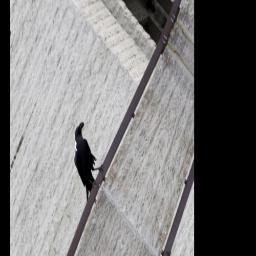Crow: (59, 115, 113, 211)
